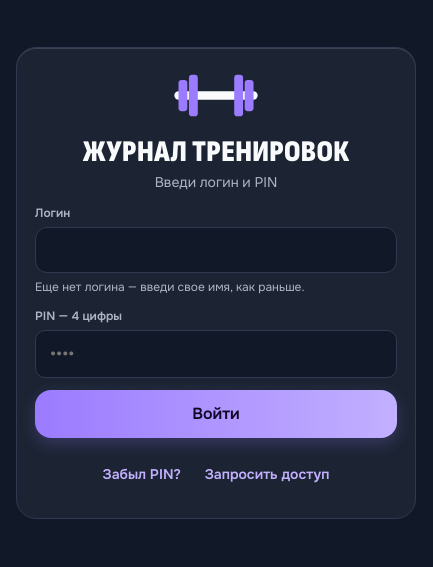
Scenario: LoginScreen › вход по имени офлайн — сразу понятный отказ, без запроса
Type "Дима" into the field labelled "Логин" at [216, 250], box [35,227,397,273]
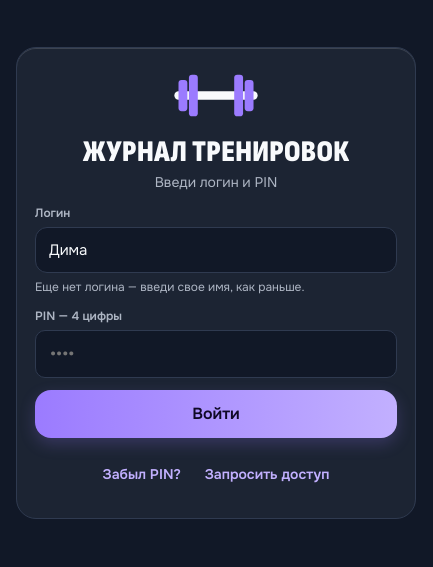
Type "1234" into the password field labelled "PIN — 4 цифры" at [216, 354], box [35,330,397,378]
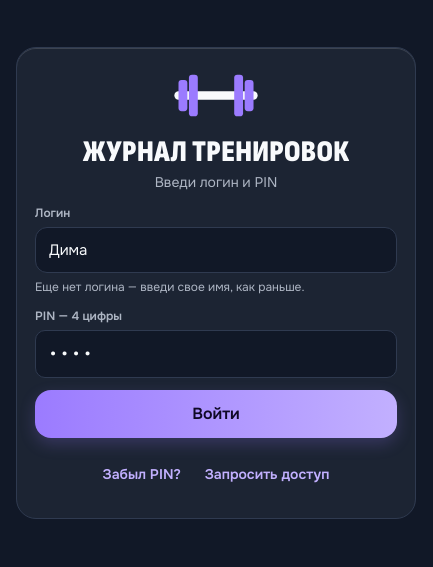
Click the button "Войти" at [216, 414], box [35,390,397,438]
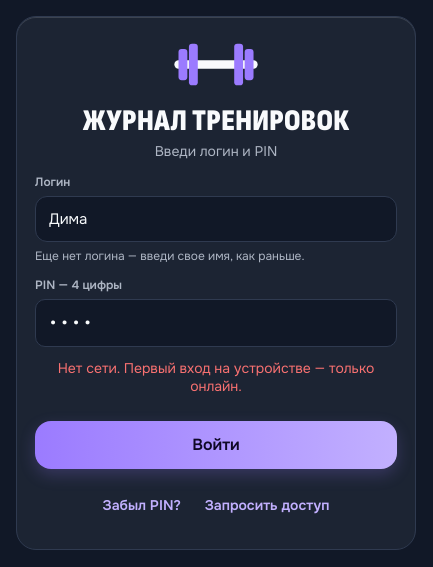
Expected: the message shows "только онлайн", [58,359,374,395]
